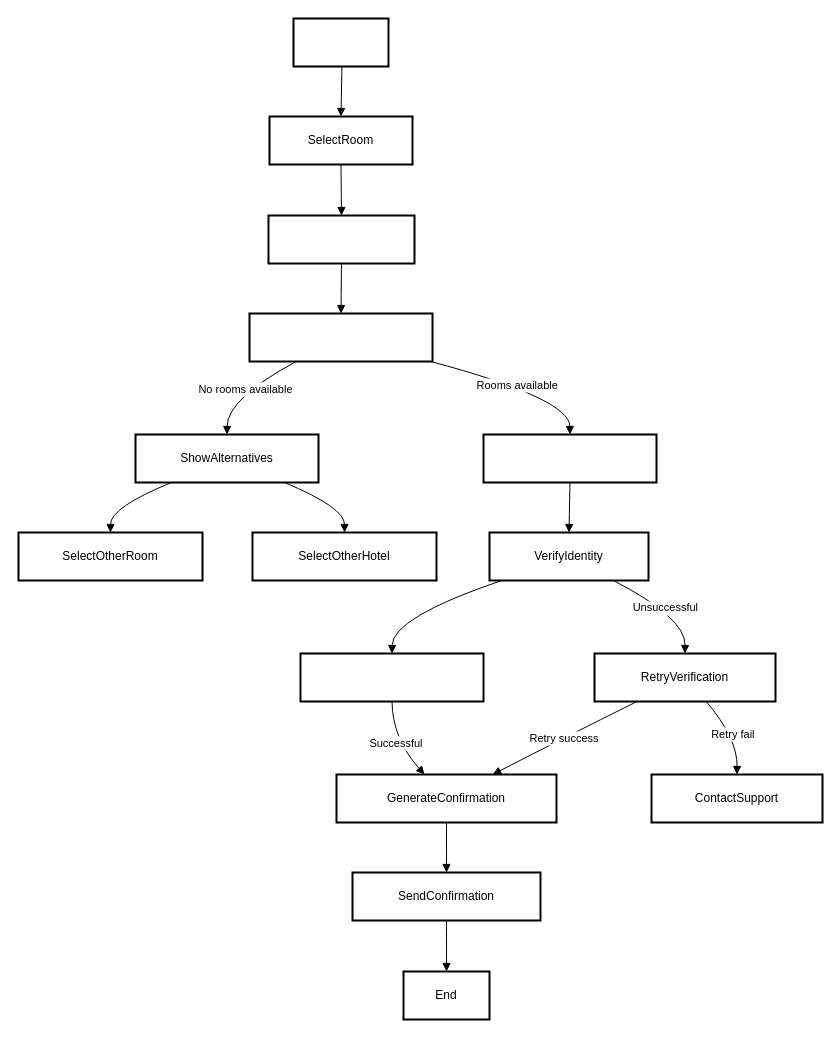
This 840x1037 diagram has some shape labels left out. The centre of each missing label's shape, as x and y in pixels:
"CheckAvailability" belongs at [340,337].
"ConfirmBooking" belongs at [569,458].
"InputDetails" belongs at [341,239].
"IntegrationCheck" belongs at [391,677].
"Start" belongs at [340,42].
